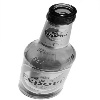beer: (21, 2, 78, 100)
